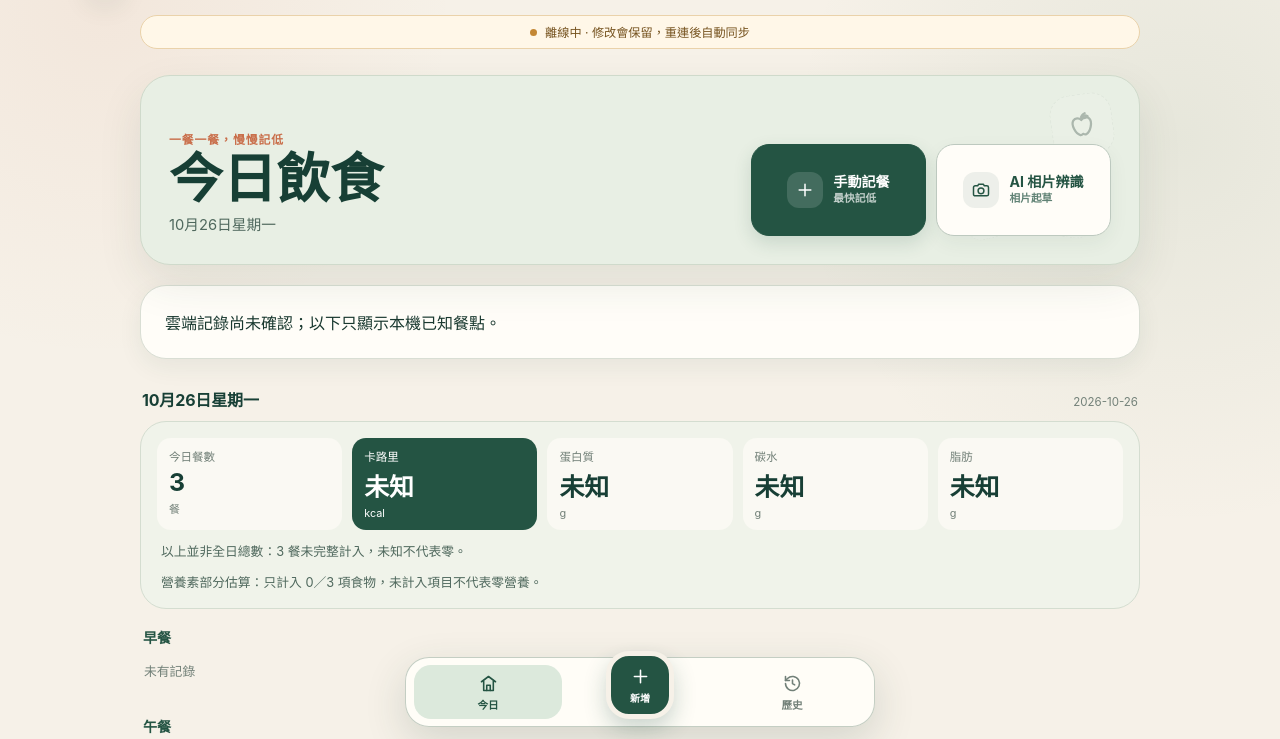
Test: does not present manual food or missing legacy analysis as AI output
Click the button "歷史" at (792, 692), box [718, 665, 866, 719]
(page scrolled)
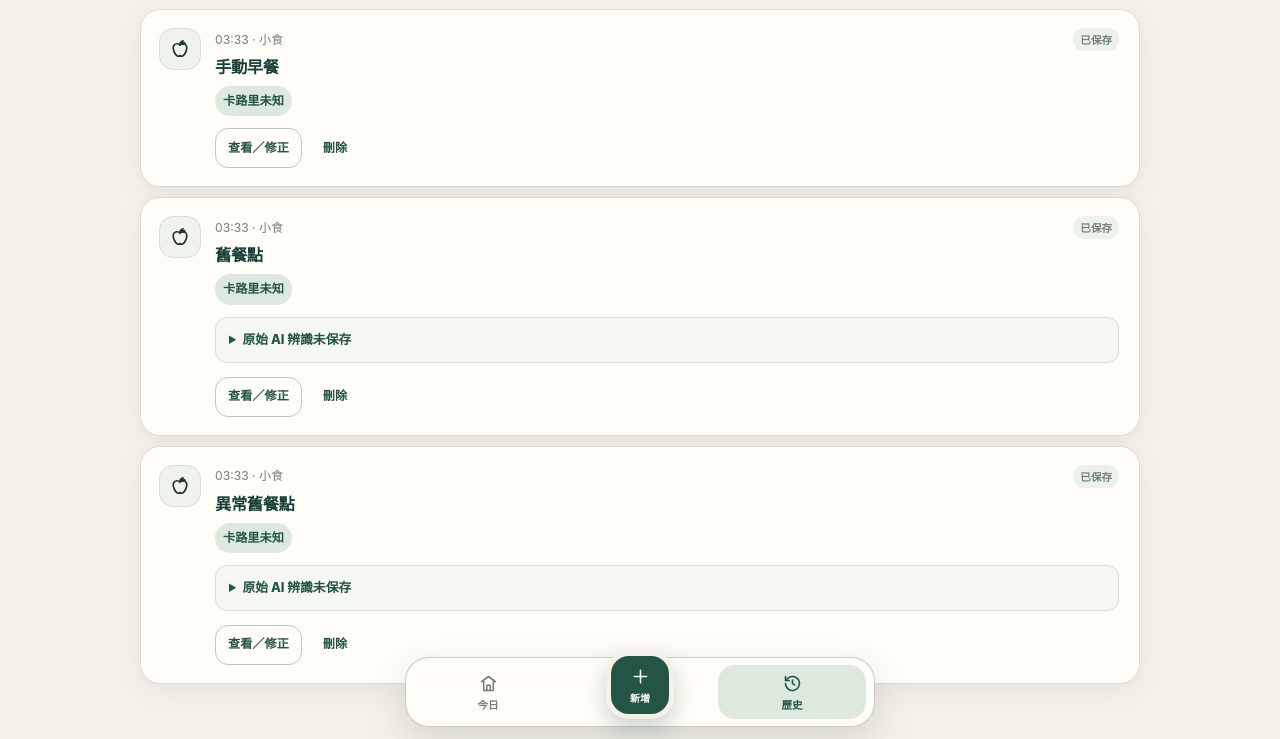
Expected: the element "手動早餐" is shown, [140, 9, 1140, 188]
Expected: the element "舊餐點" is shown, [140, 197, 1140, 436]
Click the 1st heading "原始 AI 辨識未保存" at (297, 339), box [242, 332, 351, 346]
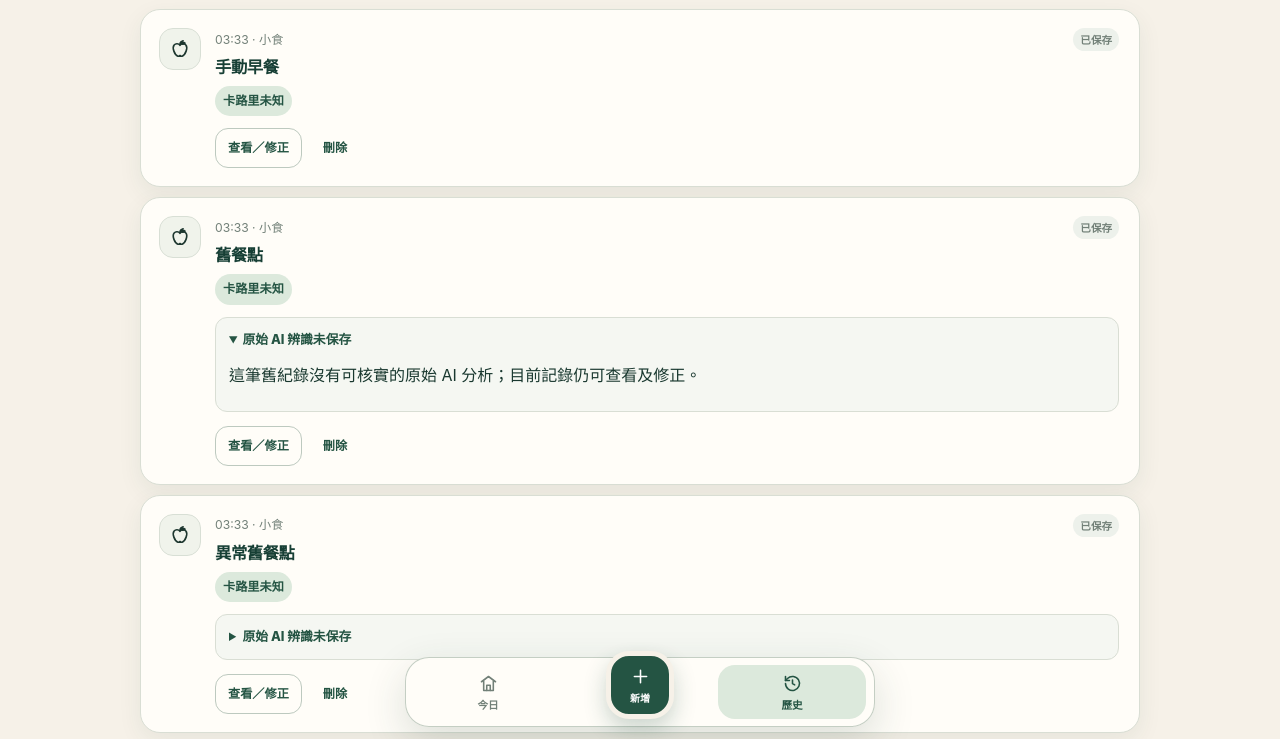
Expected: the element "舊餐點" shows "這筆舊紀錄沒有可核實的原始 AI 分析", [229, 364, 701, 384]
Click the heading "原始 AI 辨識未保存" below "異常舊餐點" at (297, 636), box [242, 629, 351, 644]
(page scrolled)
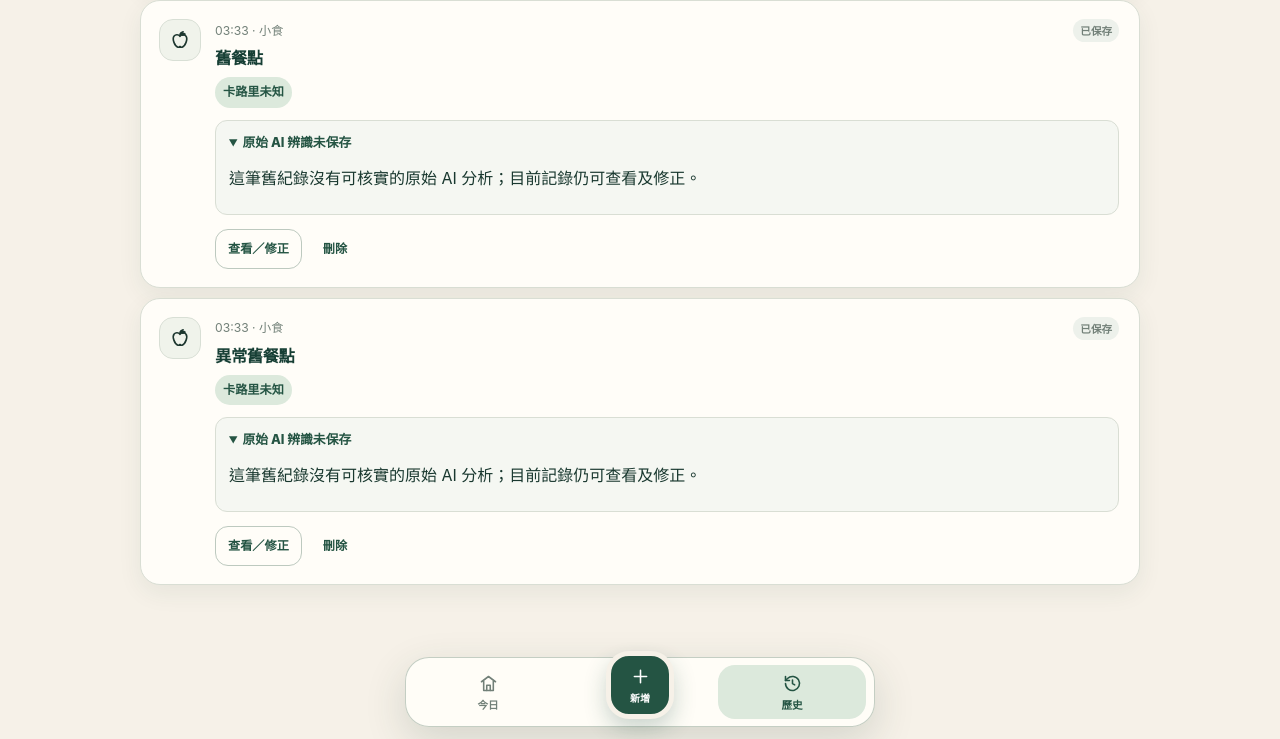
Expected: the element "異常舊餐點" does not show "undefined", [140, 298, 1140, 585]
Expected: the element "異常舊餐點" shows "這筆舊紀錄沒有可核實的原始 AI 分析", [229, 465, 701, 485]
